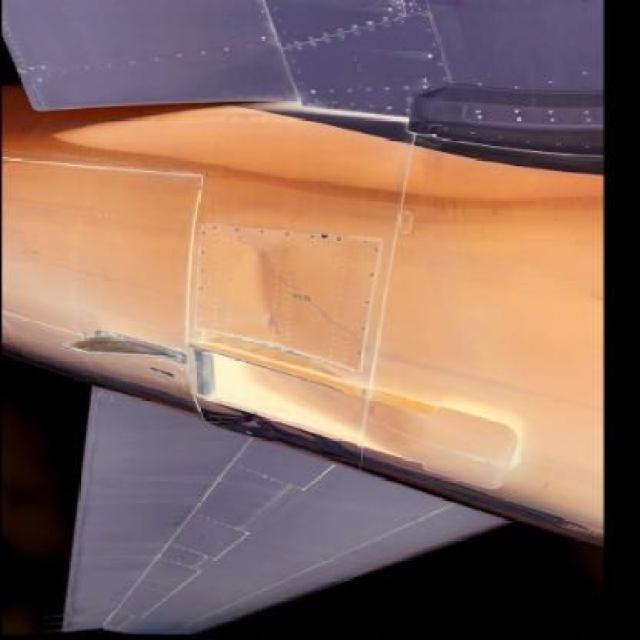dent: (237, 238, 298, 343)
